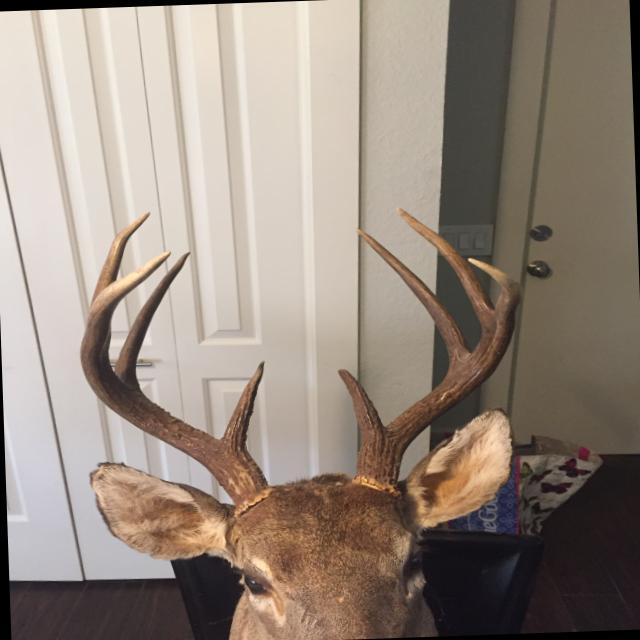L-F: (355, 257, 522, 486)
L-G1: (337, 368, 386, 449)
L-G2: (354, 228, 471, 371)
L-G3: (396, 207, 495, 331)
R-F: (79, 251, 268, 506)
R-G1: (220, 360, 264, 447)
R-G2: (115, 251, 190, 390)
